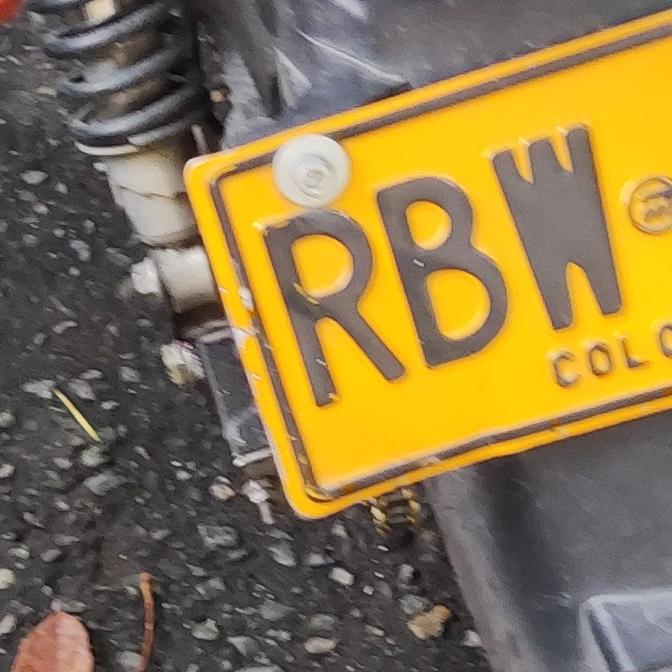plates: (172, 19, 672, 512)
